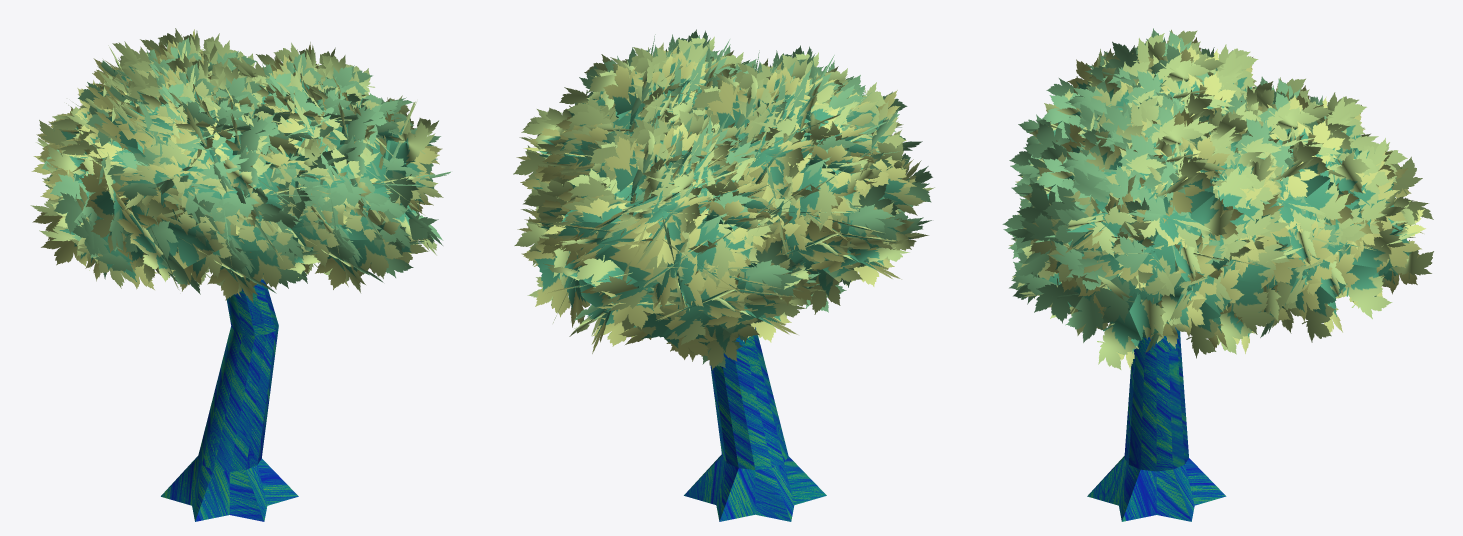
The model's file is lil_tree.fbx.
The picture shows the model from 3 angles, left to right: view 1: azimuth 30°, elevation 25°; view 2: azimuth 150°, elevation 25°; view 3: azimuth 270°, elevation 25°; orthographic projection. The views are drawn at different scales.
Parts seen in each view (by area): view 1: Plane.009, Circle; view 2: Plane.009, Circle; view 3: Plane.009, Circle.
Boxes of the visible parts, box(x1,y1,x2,y2) form: Plane.009: box(30, 28, 450, 303); Circle: box(161, 279, 298, 521); Plane.009: box(513, 29, 934, 370); Circle: box(684, 327, 826, 521); Plane.009: box(1002, 28, 1433, 369); Circle: box(1087, 327, 1226, 521).
Size of the model in its own units: 3400 by 3660 by 3368.
